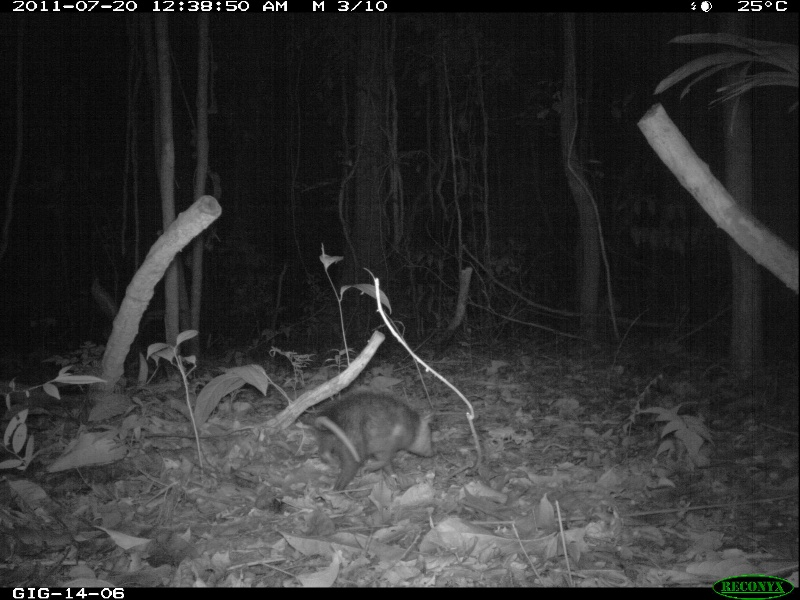opossum: (314, 389, 439, 492)
